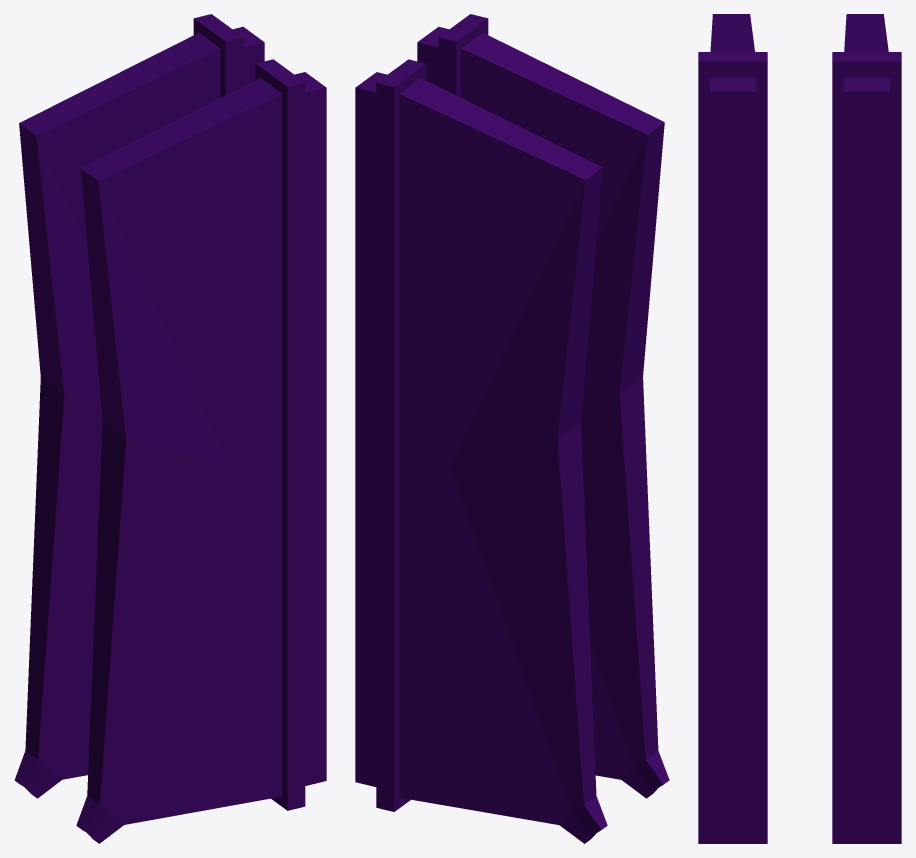
Rendered from Ram.fbx.
3 views of the same model, side by side, from view 1: azimuth 30°, elevation 25°; view 2: azimuth 150°, elevation 25°; view 3: azimuth 270°, elevation 25° (orthographic). The views are drawn at different scales.
Parts seen in each view (by area): view 1: Cube.004, Cube.003; view 2: Cube.003, Cube.004; view 3: Cube.004, Cube.003.
Boxes of the visible parts, x1,y1,x2,y2 form: Cube.004: [76, 59, 326, 843]; Cube.003: [14, 14, 264, 798]; Cube.003: [355, 59, 607, 843]; Cube.004: [417, 14, 669, 798]; Cube.004: [698, 14, 767, 843]; Cube.003: [832, 14, 901, 843].
Size of the model in its own units: 66.43 by 194 by 45.49.
